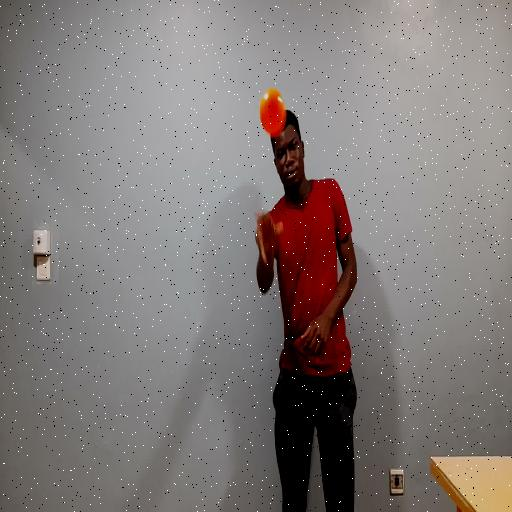plastic-ball: (252, 78, 296, 147)
